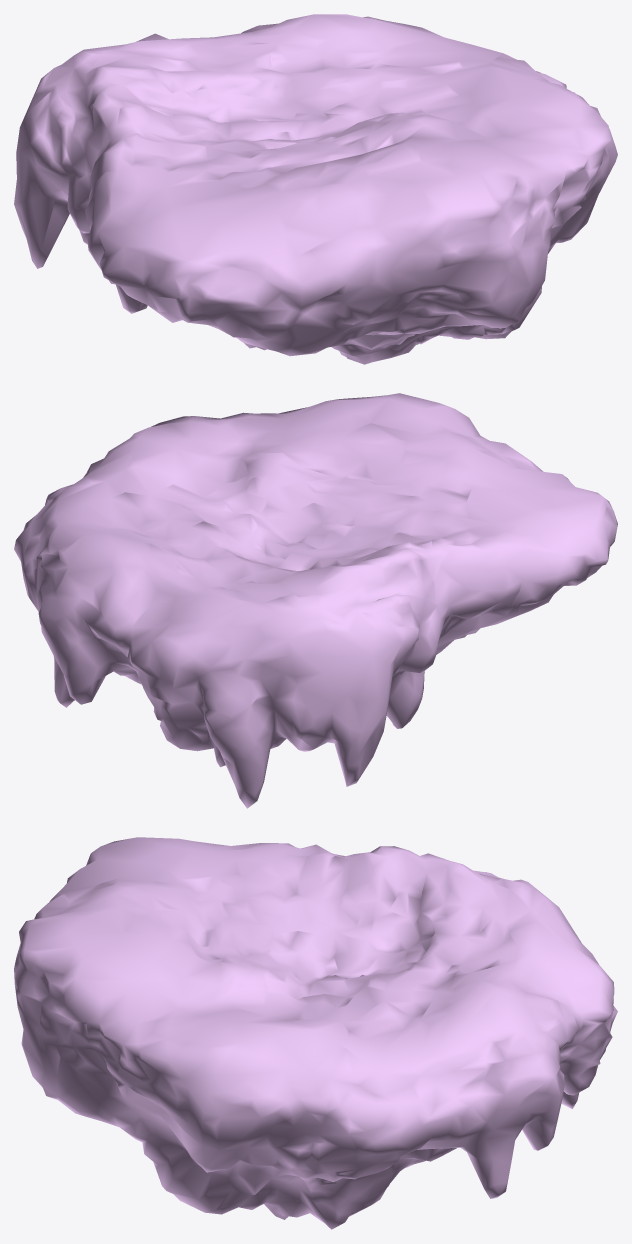
Rendered from lava_wall_07.FBX.
3 renders of one model, top to bottom at view 1: azimuth 30°, elevation 25°; view 2: azimuth 150°, elevation 25°; view 3: azimuth 270°, elevation 25°, orthographic. The views are drawn at different scales.
Parts seen in each view (by area): view 1: lava_wall_07_LOD0; view 2: lava_wall_07_LOD0; view 3: lava_wall_07_LOD0.
Part boxes in pixels (x1,y1,x2,y2): lava_wall_07_LOD0: (14, 14, 617, 364); lava_wall_07_LOD0: (14, 393, 617, 808); lava_wall_07_LOD0: (14, 837, 617, 1229).
Size of what is drawn, in the model's own units: 334 by 157 by 335.
